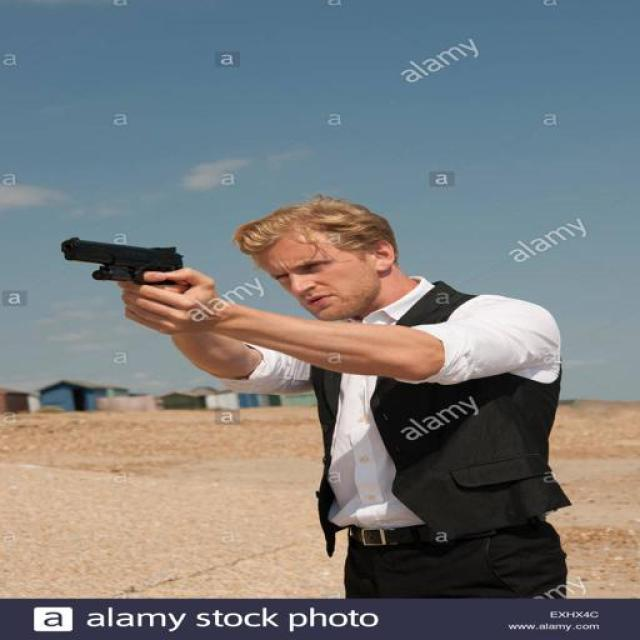pistol: (57, 232, 190, 291)
